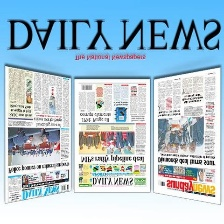news_paper: (151, 65, 224, 207), (1, 64, 73, 205), (71, 76, 152, 194)
